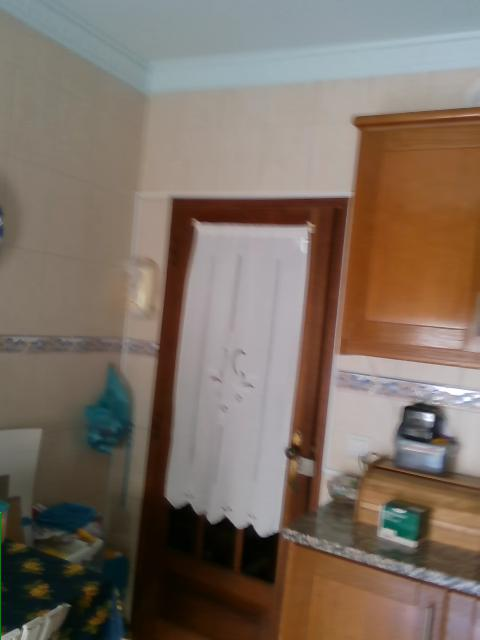door: (126, 194, 347, 638)
